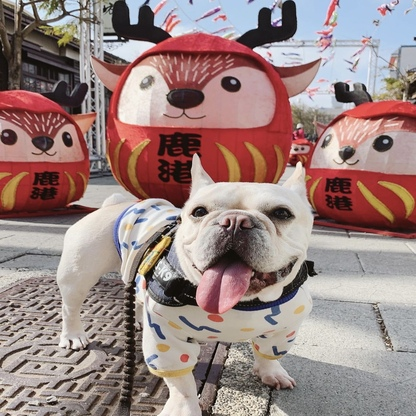bulldog: (54, 150, 314, 416)
